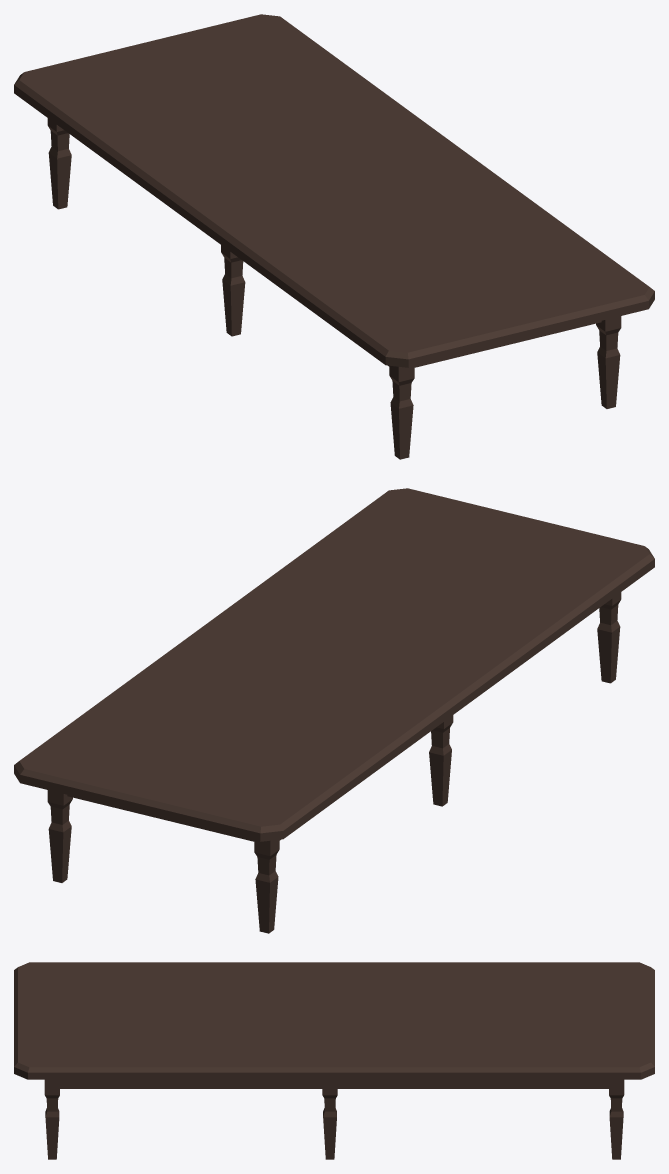
File: LPHorror_DiningTable.fbx
The picture shows the model from 3 angles, top to bottom: view 1: azimuth 30°, elevation 25°; view 2: azimuth 150°, elevation 25°; view 3: azimuth 270°, elevation 25°; orthographic projection. The views are drawn at different scales.
Parts seen in each view (by area): view 1: DiningTable; view 2: DiningTable; view 3: DiningTable.
Part boxes in pixels (x1=…): DiningTable: x1=14, y1=14, x2=654, y2=459; DiningTable: x1=14, y1=488, x2=654, y2=933; DiningTable: x1=14, y1=962, x2=654, y2=1159.
Bounding box in the file's own units: 200 × 87.16 × 499.
